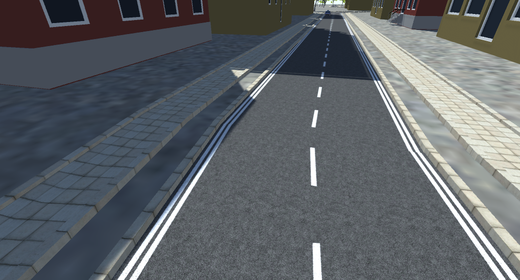centerstrip: (306, 84, 327, 280), (318, 27, 332, 82)
sidestripe: (112, 88, 263, 280), (373, 85, 517, 280), (255, 39, 303, 88), (348, 35, 384, 86)
